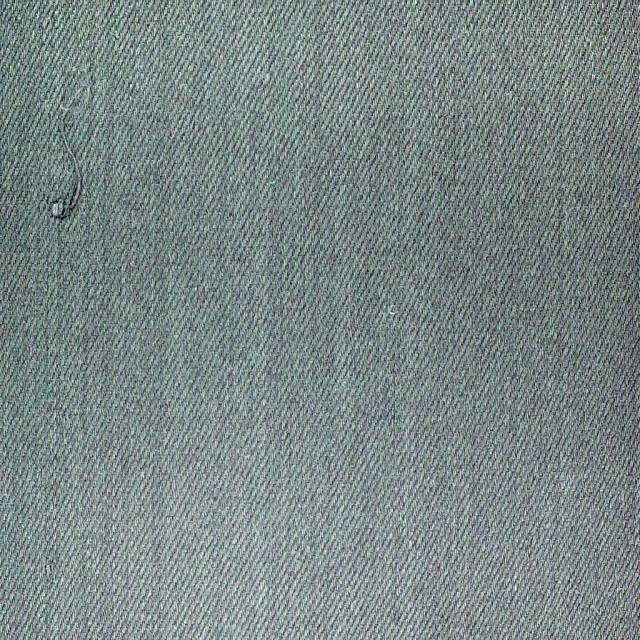defect: (45, 73, 91, 226)
